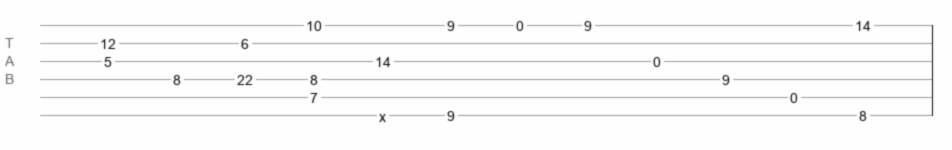0: (516, 18, 524, 28), (653, 54, 661, 64), (790, 90, 798, 100)
10: (306, 18, 322, 28)
12: (100, 36, 116, 46)
14: (375, 54, 391, 64), (855, 18, 871, 28)
22: (237, 72, 253, 82)
5: (104, 54, 112, 64)
6: (241, 36, 249, 46)
7: (310, 90, 318, 100)
8: (173, 72, 181, 82), (310, 72, 318, 82), (859, 108, 867, 118)
9: (447, 108, 455, 118), (447, 18, 455, 28), (584, 18, 592, 28), (722, 72, 730, 82)
x: (379, 109, 386, 117)
